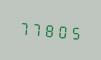eight: (44, 19, 56, 40)
five: (70, 21, 82, 42)
seven: (18, 17, 30, 38), (31, 18, 43, 39)
zero: (57, 20, 69, 41)
